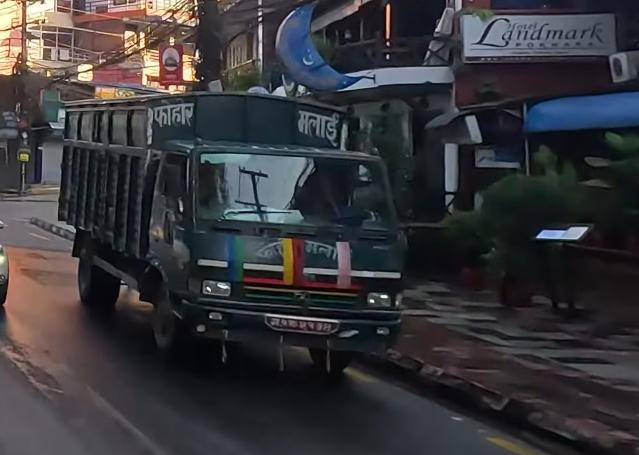mini_truck: (55, 78, 429, 378)
